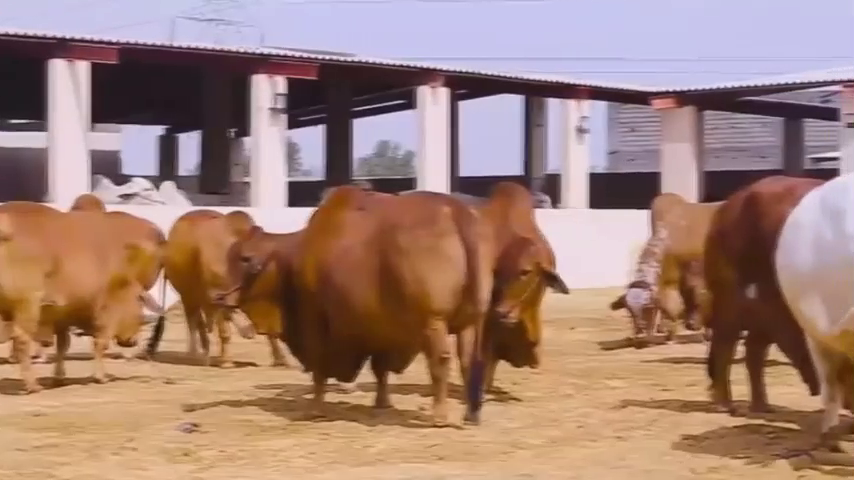bo: (201, 178, 484, 433), (699, 154, 853, 450), (2, 188, 168, 394), (466, 163, 564, 402), (163, 188, 286, 372), (597, 180, 720, 359)
